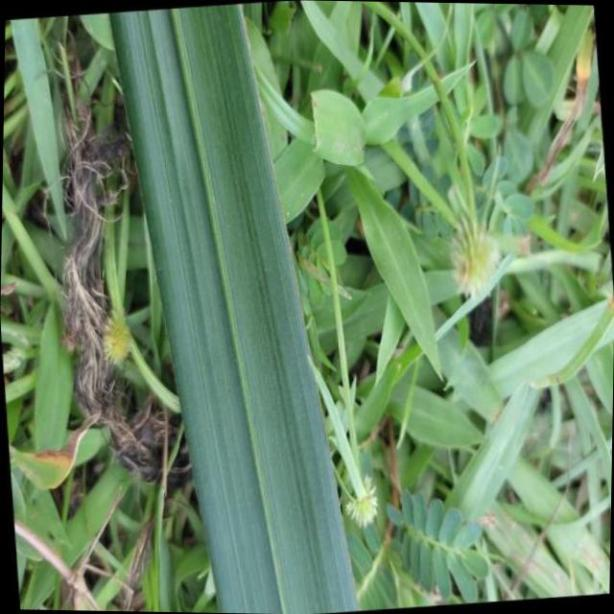Healthy: (115, 6, 363, 614)
